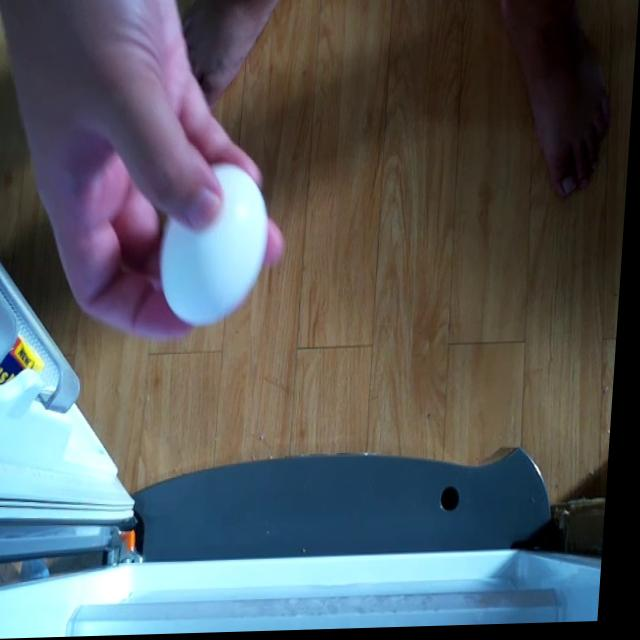egg: (163, 162, 281, 329)
